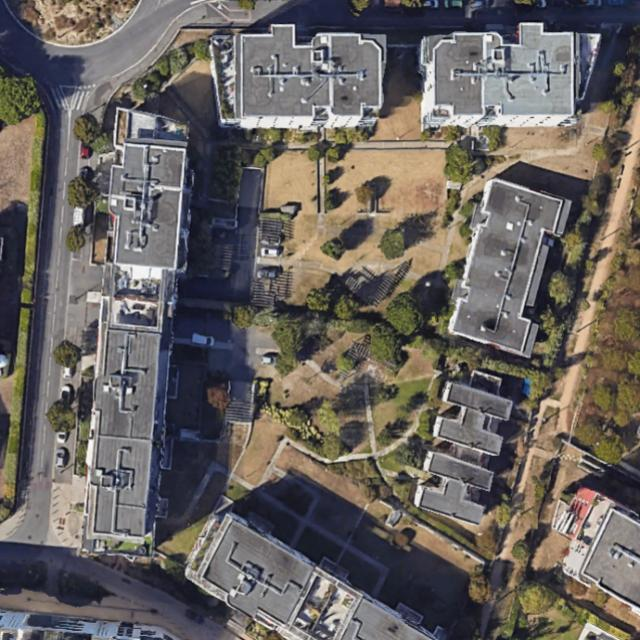immeuble: (81, 108, 183, 559), (179, 507, 434, 640), (446, 176, 572, 357), (411, 364, 517, 527), (418, 36, 601, 127), (207, 34, 384, 127)
